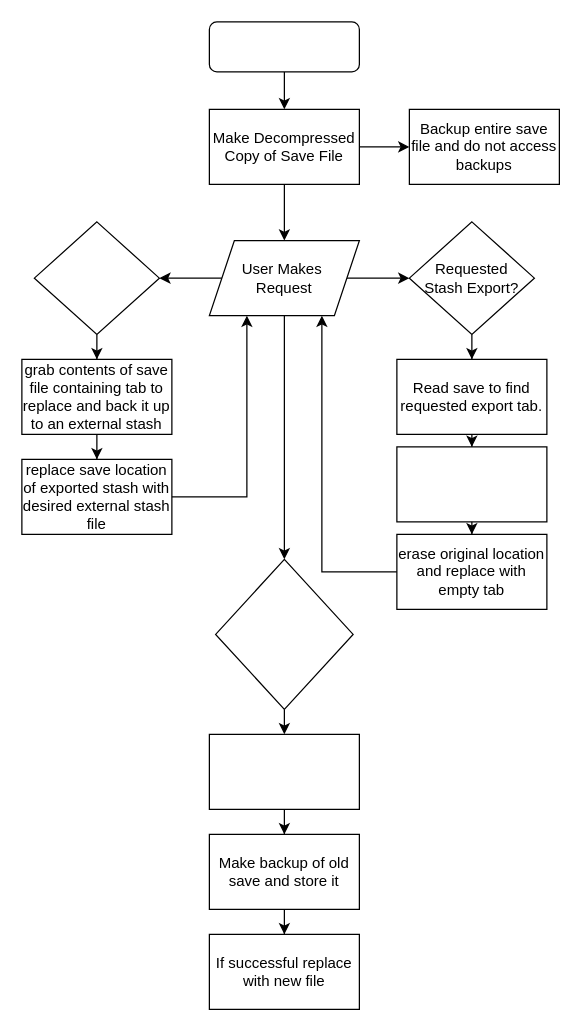
Image size: 581x1031. Some labels were removed from this diagram. The centre of each missing label's shape, as x and y in pixels:
"Compress modified save file" belongs at [283,771].
"Copy contents into separate file" belongs at [471,484].
"Program Starts" belongs at [283,46].
"Requested Stash Import?" belongs at [96,277].
"User requests to save results" belongs at [283,633].
